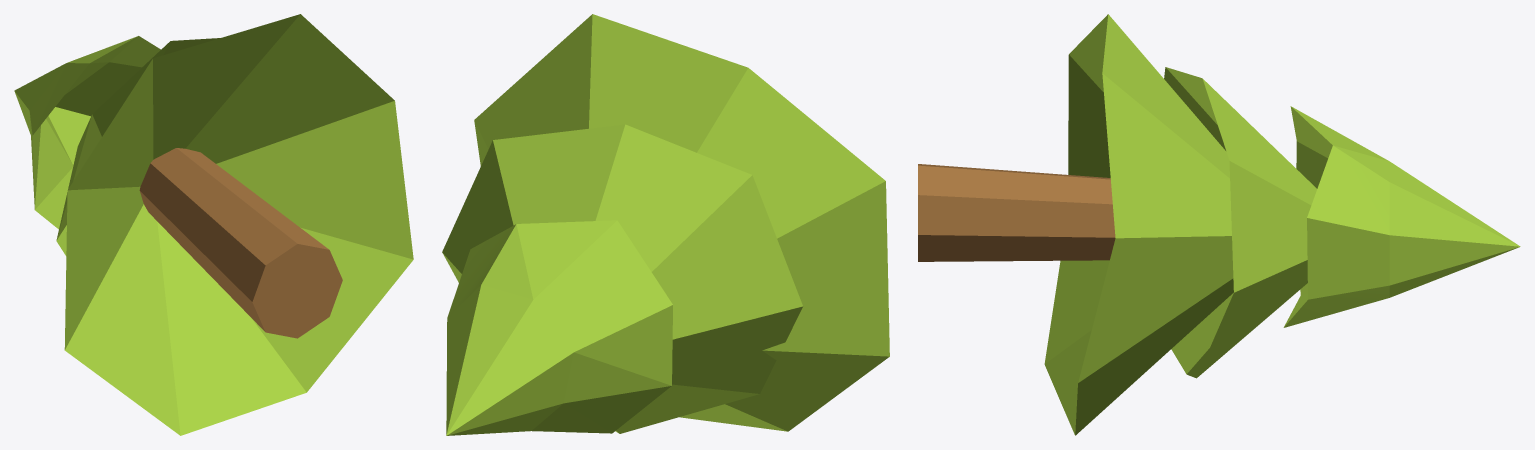
The model's file is pine1.dae.
3 renders of one model, left to right at view 1: azimuth 30°, elevation 25°; view 2: azimuth 150°, elevation 25°; view 3: azimuth 270°, elevation 25°, orthographic. The views are drawn at different scales.
Parts seen in each view (by area): view 1: Green, Brown; view 2: Green; view 3: Green, Brown.
Boxes of the visible parts, x1=… form: Green: x1=14, y1=14, x2=413, y2=435; Brown: x1=139, y1=148, x2=342, y2=338; Green: x1=442, y1=14, x2=889, y2=435; Green: x1=1044, y1=14, x2=1520, y2=435; Brown: x1=918, y1=164, x2=1115, y2=261.
Size of the model in its own units: 0.9268 by 1.37 by 0.9181.
